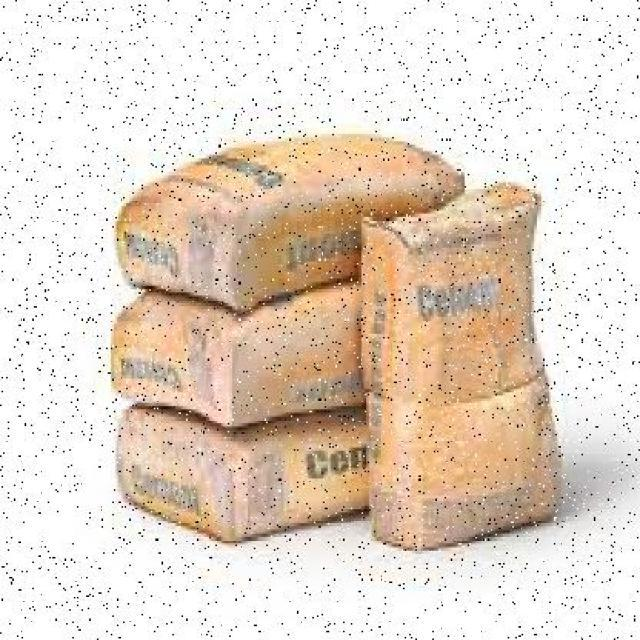gunny_bag: (369, 186, 557, 545), (115, 306, 233, 427), (124, 411, 235, 535), (119, 193, 240, 306)
